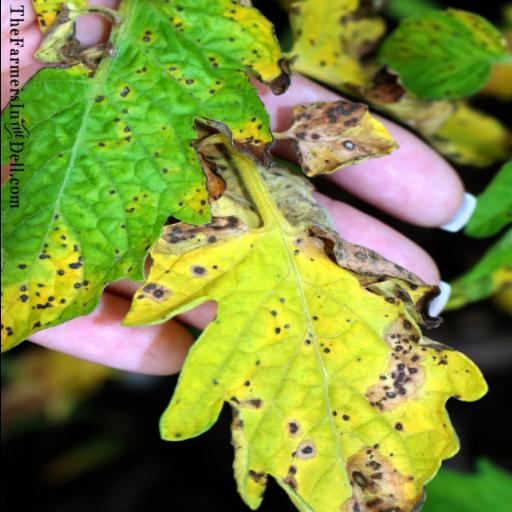Septoria: (120, 208, 498, 512), (0, 0, 290, 354), (370, 6, 510, 102), (288, 92, 402, 180)
